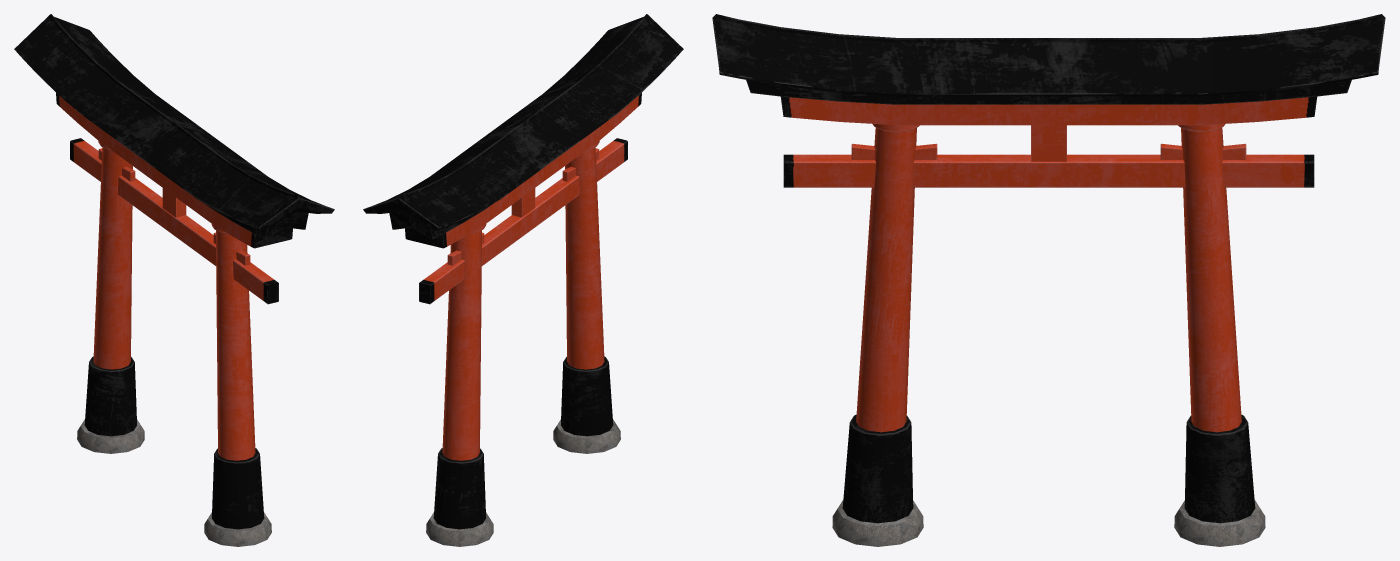
Rendered from Torii.fbx.
3 renders of one model, left to right at view 1: azimuth 30°, elevation 25°; view 2: azimuth 150°, elevation 25°; view 3: azimuth 270°, elevation 25°, orthographic. The views are drawn at different scales.
Parts seen in each view (by area): view 1: Torii; view 2: Torii; view 3: Torii.
Boxes of the visible parts, box(x1,y1,x2,y2) form: Torii: box(14, 14, 334, 546); Torii: box(363, 14, 683, 546); Torii: box(712, 14, 1385, 546).
Size of the model in its own units: 61.64 by 295 by 351.
